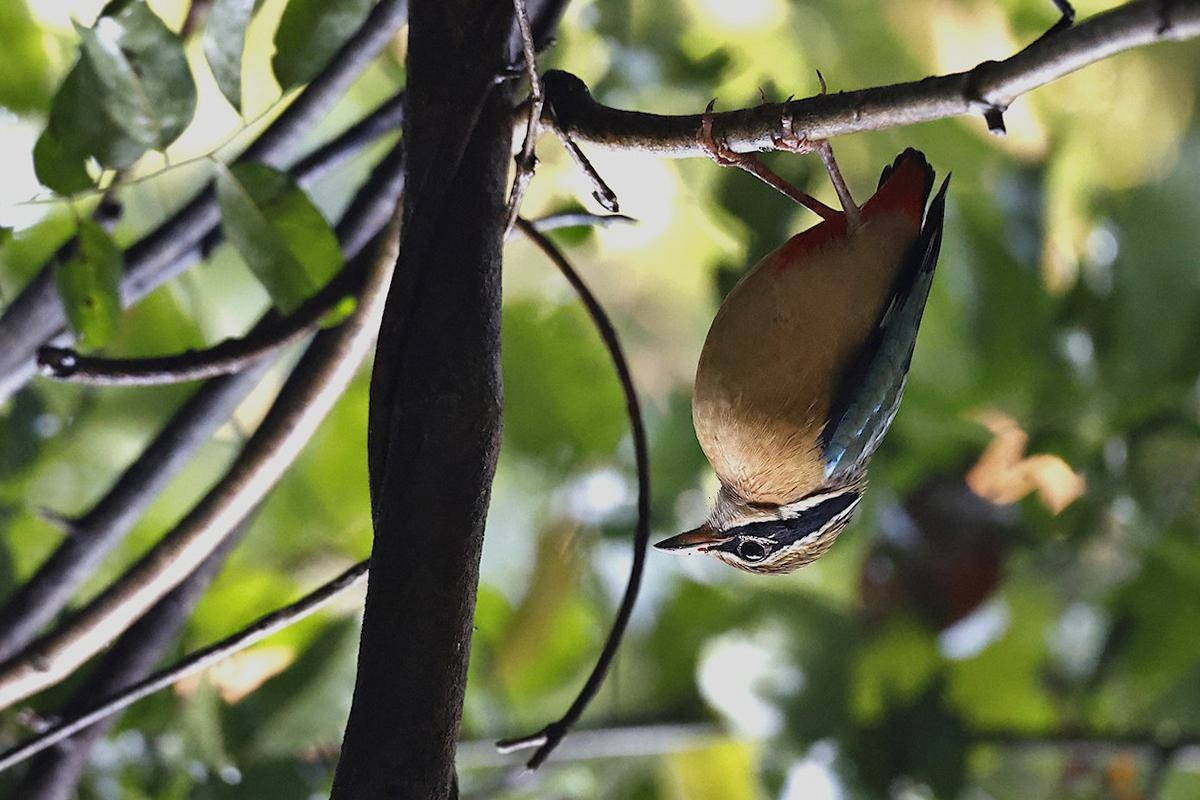pitta: (659, 90, 949, 631)
